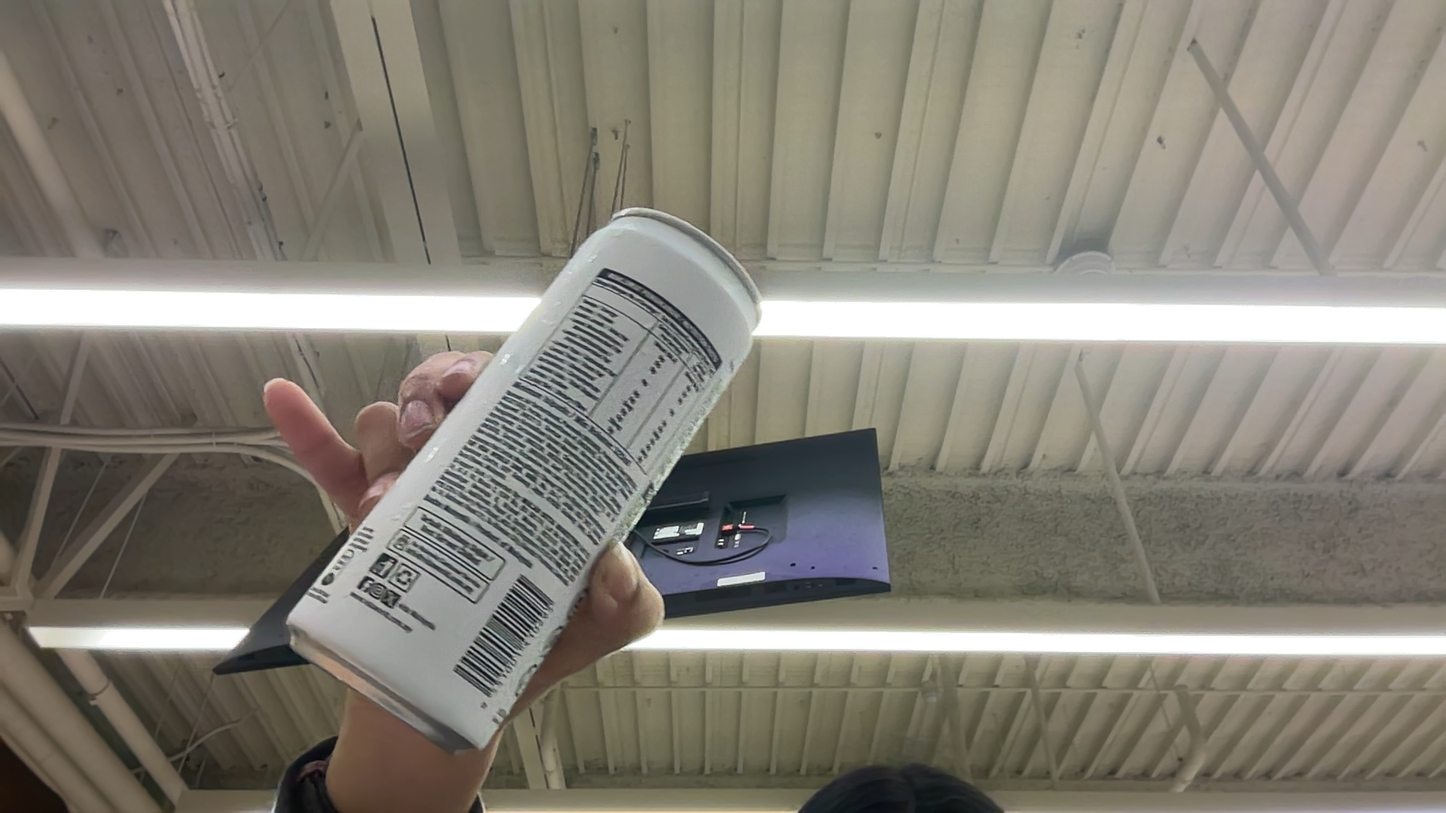Metal: (15, 430, 337, 632)
